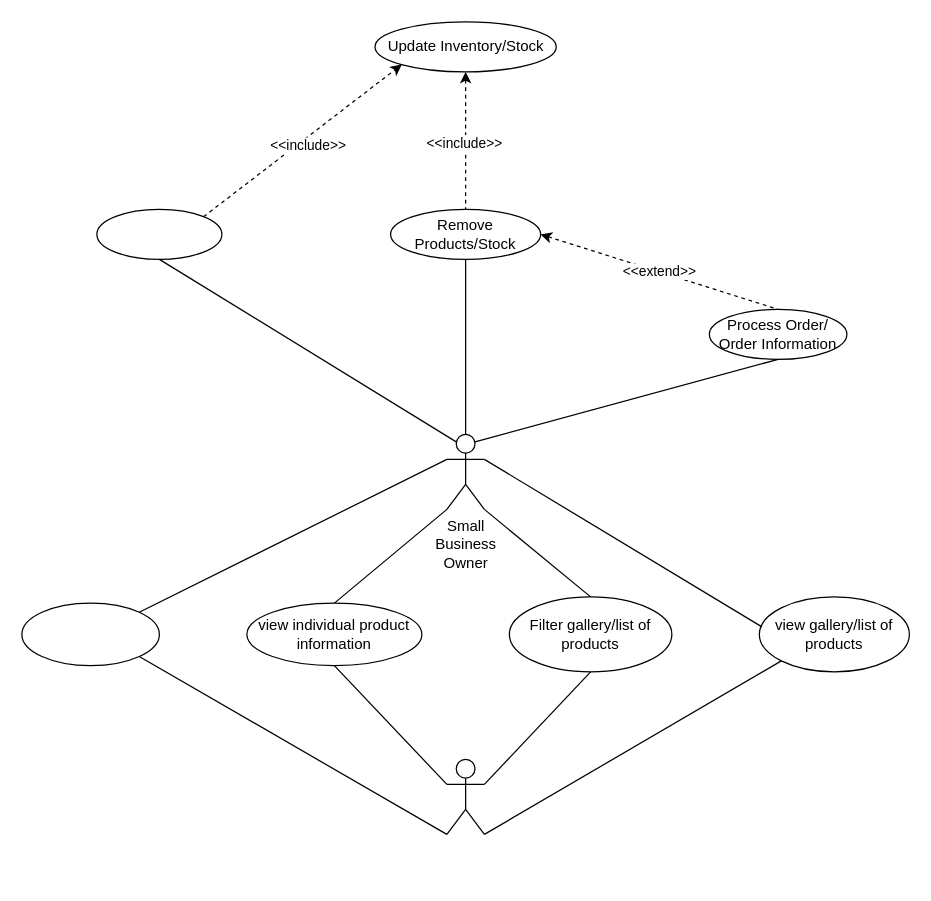
Image size: 931x901. Some labels were removed from this diagram. Here are the shapes that lost their labels. From the top down, the centre of each, then its label:
At point (159, 233): "Add Products/Stock".
At point (90, 634): "view order history/receipts".
At point (465, 796): "Customer Service".
